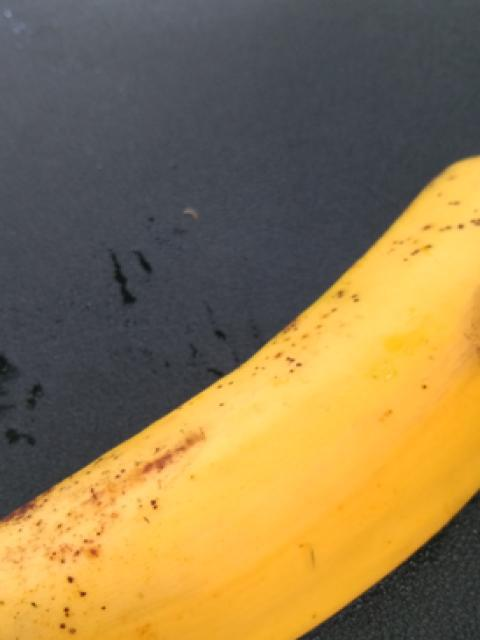ripe: (0, 137, 479, 639)
